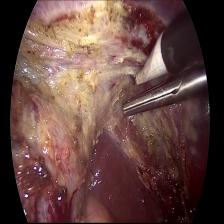Grasper: (115, 65, 201, 121)
Hook: (122, 21, 169, 91)
